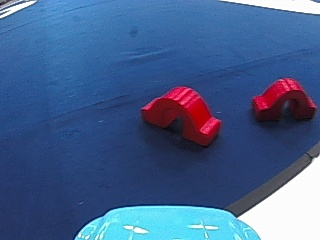bridge: (137, 81, 227, 149), (250, 74, 317, 123)
